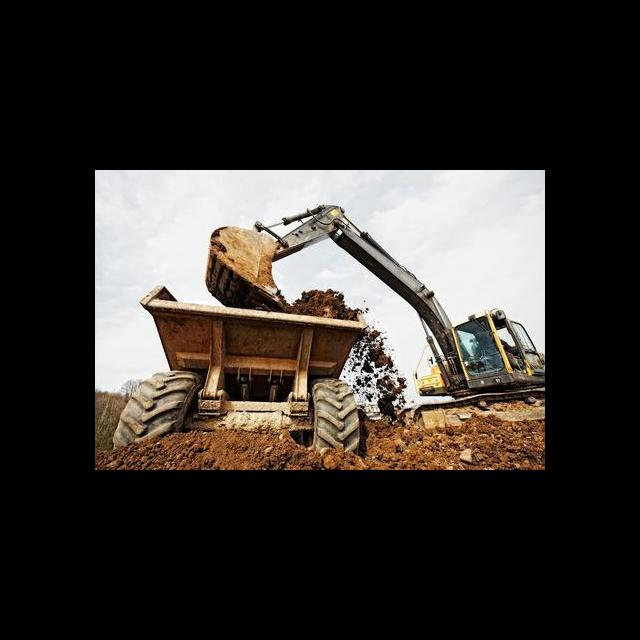Excavator: (205, 188, 545, 433)
dump truck: (113, 285, 369, 458)
